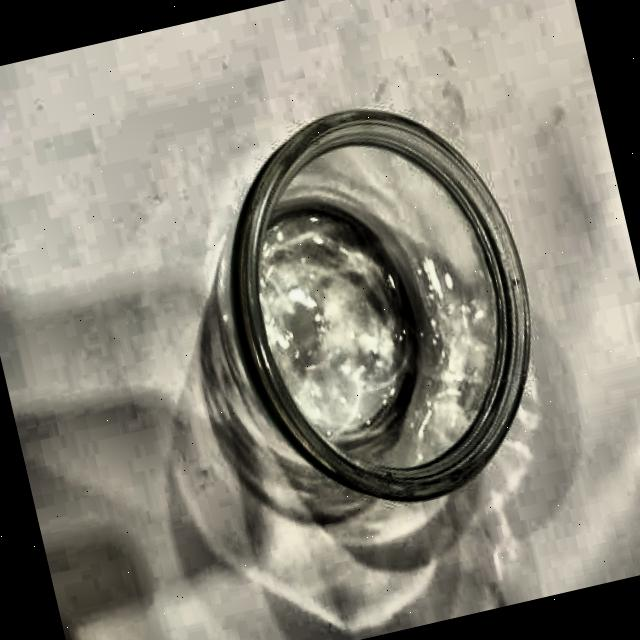glass: (148, 67, 576, 543)
